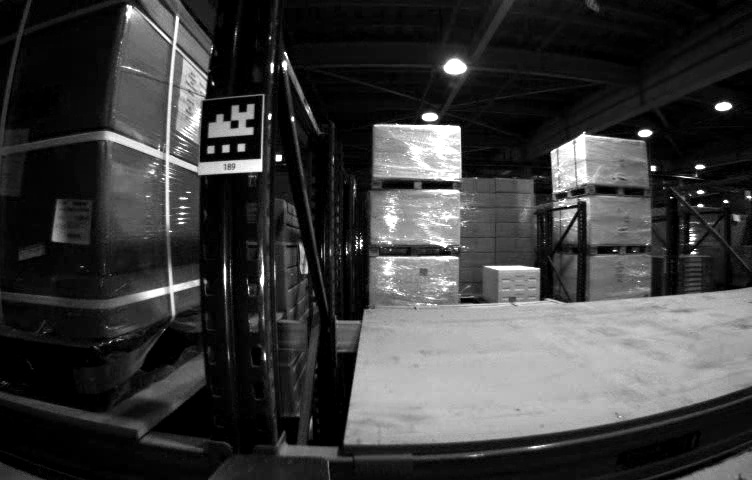True Barcode: (56, 199, 92, 245)
